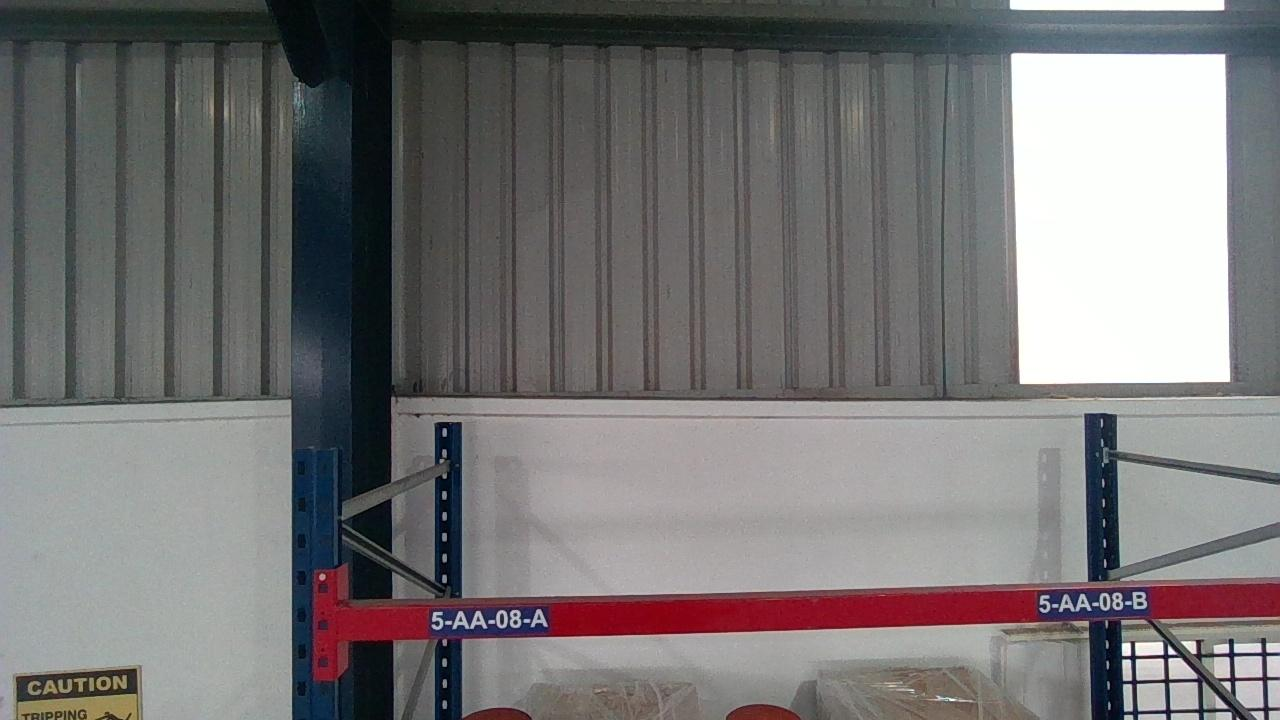h_rack: (340, 597, 1280, 626)
